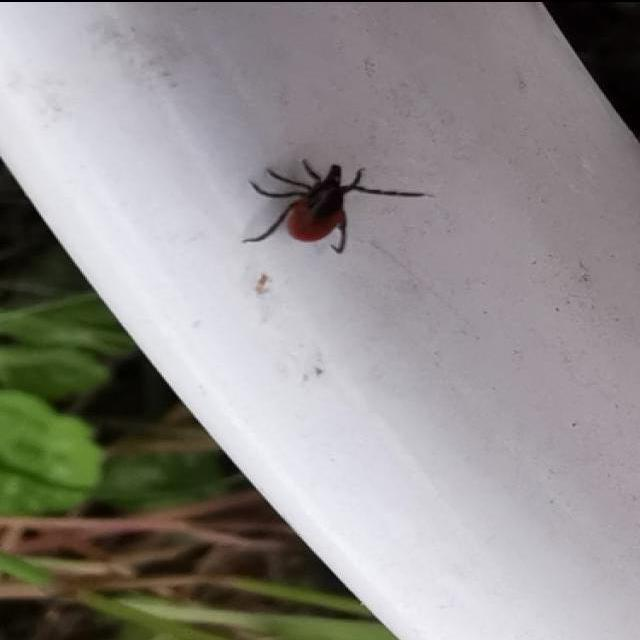Ixodes Ricinus-F: (242, 156, 423, 248)
